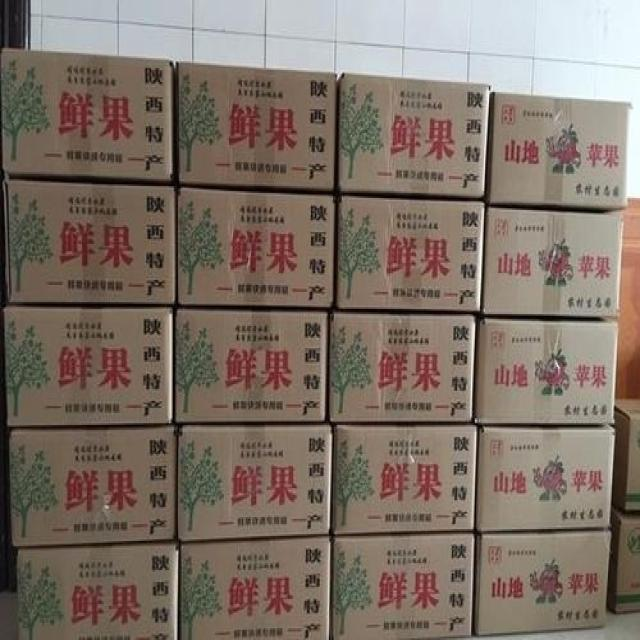box: (3, 47, 176, 178), (4, 178, 176, 305), (5, 306, 175, 424), (173, 65, 336, 188), (175, 187, 334, 311), (172, 301, 330, 425), (12, 428, 175, 545), (334, 76, 491, 197), (325, 307, 480, 427), (331, 197, 487, 314), (177, 425, 330, 538), (482, 95, 631, 205), (14, 540, 181, 638), (180, 535, 331, 638), (482, 204, 621, 314), (477, 316, 617, 425), (332, 426, 476, 531), (331, 535, 475, 638), (474, 429, 613, 534), (472, 529, 609, 633), (607, 502, 639, 613), (613, 398, 639, 515)
